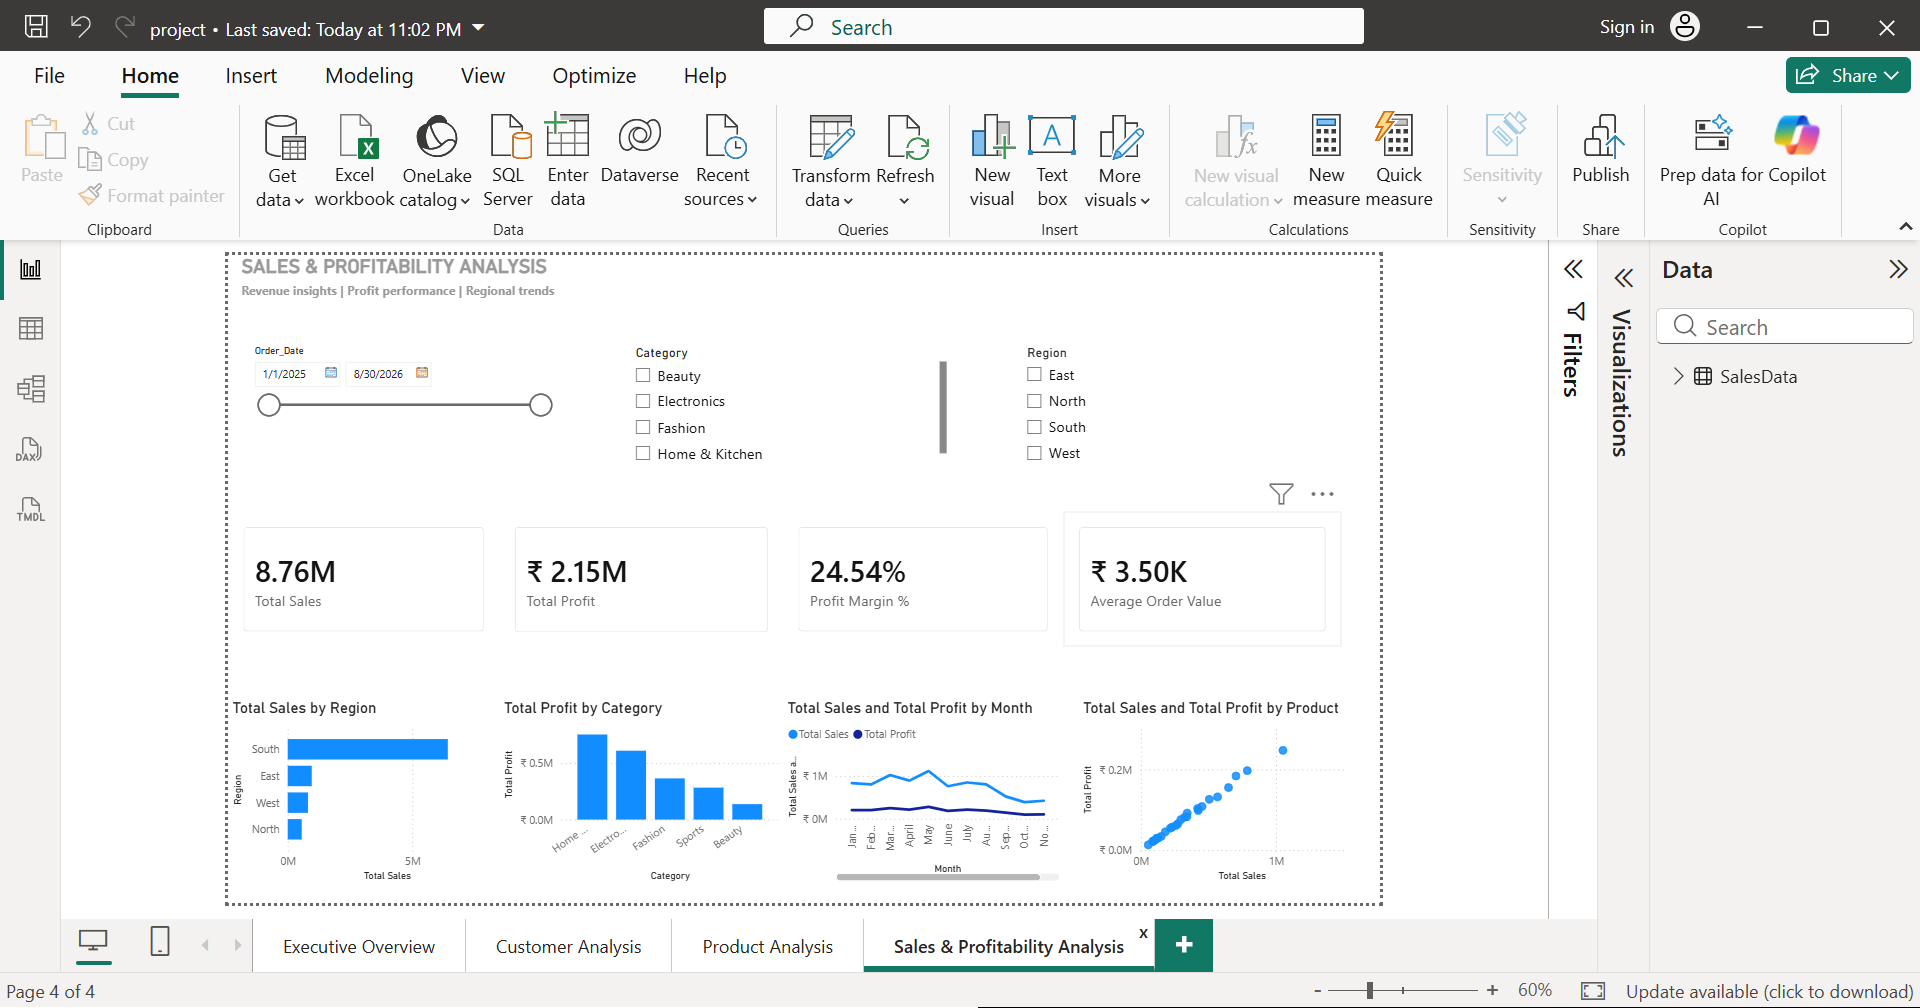

This screenshot's page, from the dashboard's own definition file:
{"tool":"powerbi","page":{"name":"Sales & Profitability Analysis","canvas":[1280,720],"ordinal":3},"visuals":[{"type":"textbox","title":"SALES & PROFITABILITY ANALYSIS","box":[10,0,403.3,55],"z":0},{"type":"slicer","fields":{"Values":["SalesData.Order_Date"]},"box":[16.7,95,351.7,148.3],"z":1},{"type":"slicer","fields":{"Values":["SalesData.Category"]},"box":[440,285,363.3,150],"z":2},{"type":"slicer","fields":{"Values":["SalesData.Region"]},"box":[875,95,361.7,150],"z":3},{"type":"cardVisual","fields":{"Data":["SalesData.Total Sales"]},"box":[0,285,301.7,150],"z":4},{"type":"cardVisual","fields":{"Data":["SalesData.Total Profit"]},"box":[301.7,285,315,151.7],"z":5},{"type":"cardVisual","fields":{"Data":["SalesData.Profit Margin %"]},"box":[616.7,285,311.7,150],"z":6},{"type":"cardVisual","fields":{"Data":["SalesData.Average Order Value"]},"box":[928.3,285,308.3,150],"z":7},{"type":"clusteredBarChart","fields":{"Category":["SalesData.Region"],"Y":["SalesData.Total Sales"]},"box":[0,493.3,301.7,206.7],"z":8},{"type":"clusteredColumnChart","fields":{"Category":["SalesData.Category"],"Y":["SalesData.Total Profit"]},"box":[301.7,493.3,315,206.7],"z":9},{"type":"lineChart","fields":{"Category":["SalesData.Order_Date.Variation.Date Hierarchy.Month"],"Y":["SalesData.Total Sales","SalesData.Total Profit"]},"box":[616.7,493.3,311.7,206.7],"z":10},{"type":"scatterChart","fields":{"Y":["SalesData.Total Profit"],"X":["SalesData.Total Sales"],"Category":["SalesData.Product"]},"box":[945,493.3,308.3,206.7],"z":11},{"type":"slicer","fields":{"Values":["SalesData.Category"]},"box":[440,95,363.3,150],"z":12}]}

Visuals, with their boxes on the page's 1280x720 design canvas (x1, y1, x2, y2). These are canvas units, not pixel positions in the 1920x1008 screenshot, which may show the page scaled, cropped or inside an application window:
"SALES & PROFITABILITY ANALYSIS" textbox: l=10, t=0, r=413, b=55
slicer - SalesData.Order_Date: l=17, t=95, r=368, b=243
slicer - SalesData.Category: l=440, t=285, r=803, b=435
slicer - SalesData.Region: l=875, t=95, r=1237, b=245
cardVisual - SalesData.Total Sales: l=0, t=285, r=302, b=435
cardVisual - SalesData.Total Profit: l=302, t=285, r=617, b=437
cardVisual - SalesData.Profit Margin %: l=617, t=285, r=928, b=435
cardVisual - SalesData.Average Order Value: l=928, t=285, r=1237, b=435
clusteredBarChart - SalesData.Region x SalesData.Total Sales: l=0, t=493, r=302, b=700
clusteredColumnChart - SalesData.Category x SalesData.Total Profit: l=302, t=493, r=617, b=700
lineChart - SalesData.Order_Date.Variation.Date Hierarchy.Month x SalesData.Total Sales: l=617, t=493, r=928, b=700
scatterChart - SalesData.Total Profit x SalesData.Total Sales: l=945, t=493, r=1253, b=700
slicer - SalesData.Category: l=440, t=95, r=803, b=245
